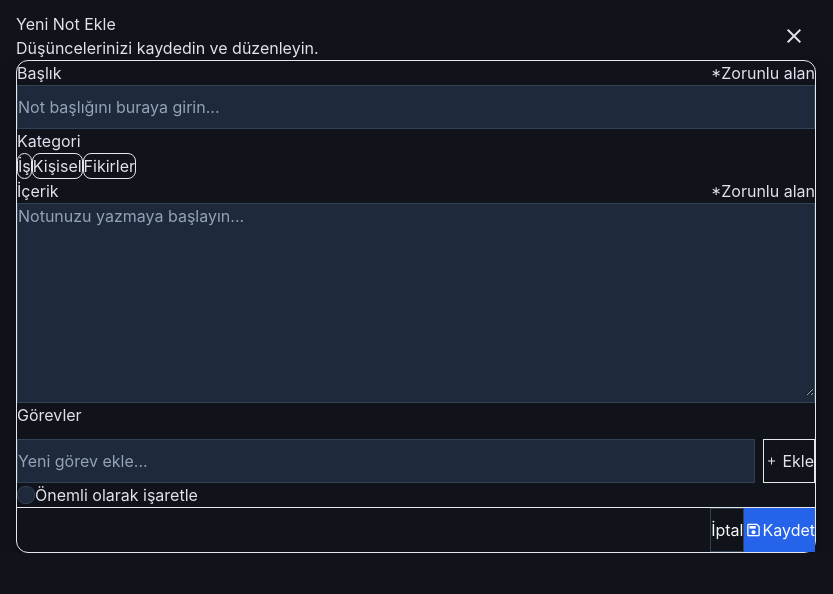
Test case: NotEkleduzenle - Add Mode › can add a todo item
Type "Yeni görev" into the field with placeholder "Yeni görev ekle..." at [386, 461], box [17, 439, 755, 483]
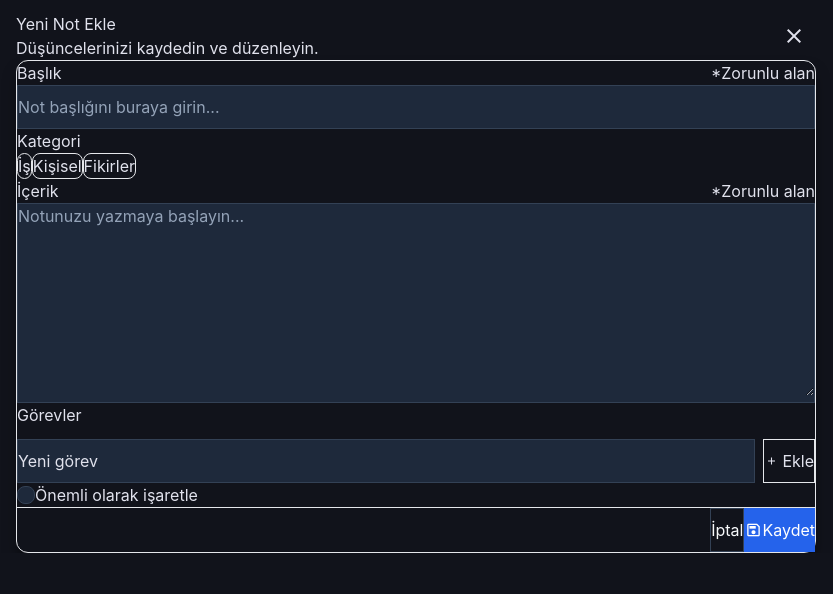
Click the button "Ekle" at [789, 461], box [763, 439, 815, 483]
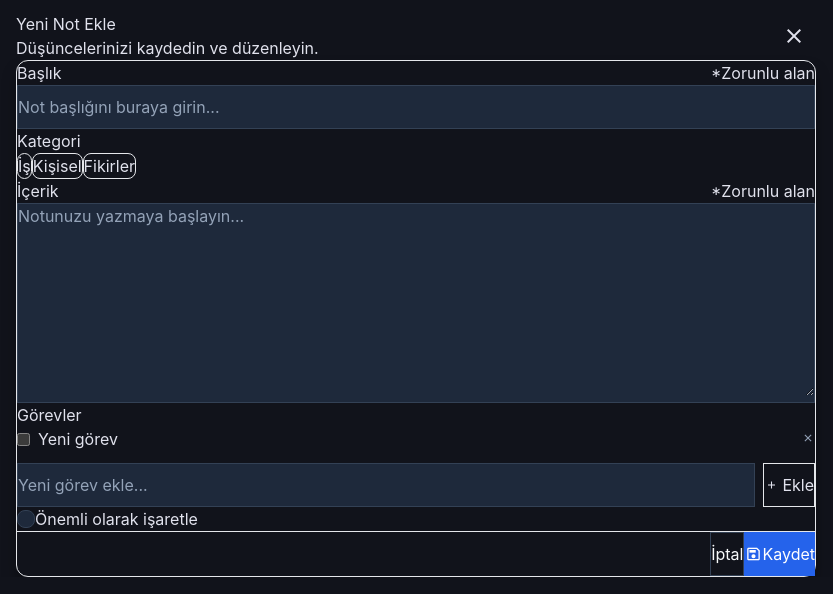
Now the text "Yeni görev" is shown, box [38, 429, 118, 449]
